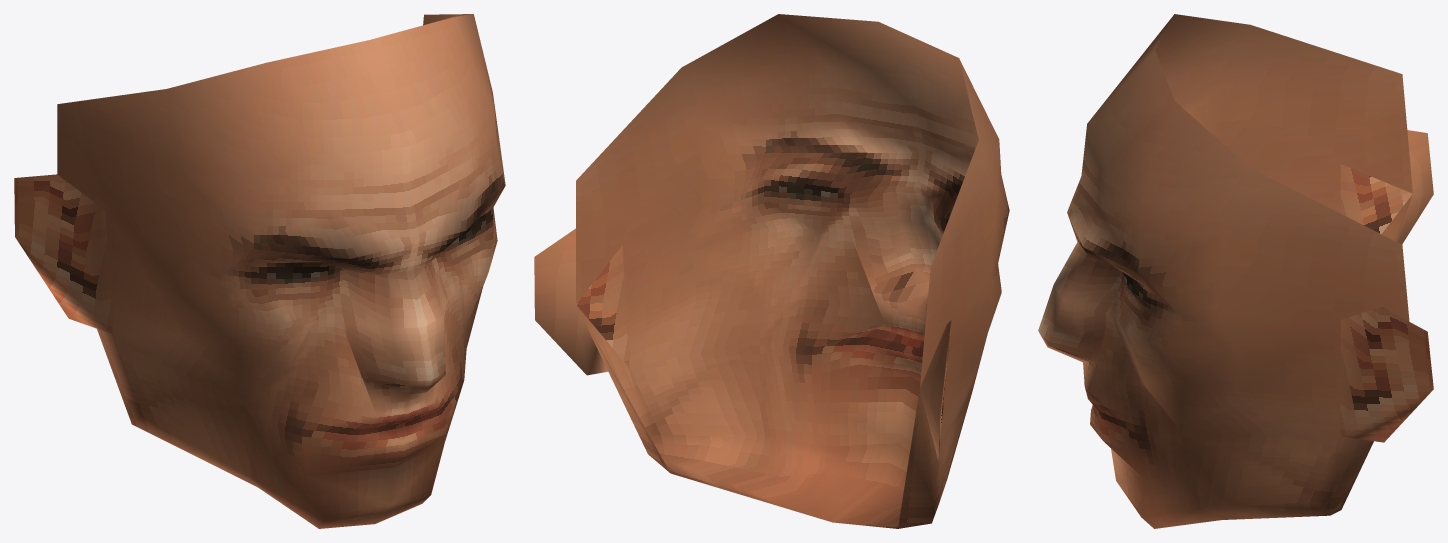
3 views of the same model, side by side, from view 1: azimuth 30°, elevation 25°; view 2: azimuth 150°, elevation 25°; view 3: azimuth 270°, elevation 25° (orthographic). The views are drawn at different scales.
Visible parts, largest first — view 1: editpl_m-0000-116, editpl_m-0000-115; view 2: editpl_m-0000-116, editpl_m-0000-115; view 3: editpl_m-0000-116, editpl_m-0000-115.
Part boxes in pixels (bbox=[...]): editpl_m-0000-116: bbox=[14, 14, 505, 475]; editpl_m-0000-115: bbox=[97, 329, 458, 528]; editpl_m-0000-116: bbox=[534, 14, 1009, 503]; editpl_m-0000-115: bbox=[576, 263, 939, 528]; editpl_m-0000-116: bbox=[1038, 14, 1433, 506]; editpl_m-0000-115: bbox=[1039, 194, 1412, 528].
Bounding box in the file's own units: 17.18 × 18.6 × 14.47.
Materials: 1 (1 with a texture image).
